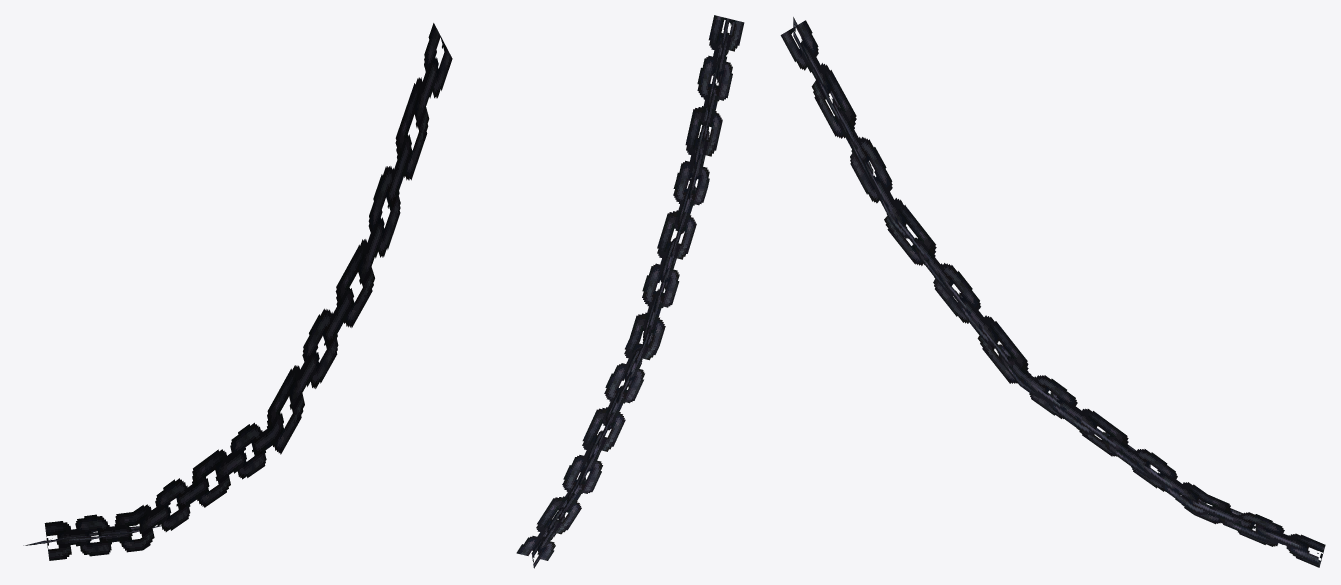
File: 10504_Chain02.FBX
3 views of the same model, side by side, from view 1: azimuth 30°, elevation 25°; view 2: azimuth 150°, elevation 25°; view 3: azimuth 270°, elevation 25° (orthographic). The views are drawn at different scales.
Parts seen in each view (by area): view 1: Object956; view 2: Object956; view 3: Object956.
Part boxes in pixels (<box>): Object956: <box>23,23,452,560</box>; Object956: <box>516,15,744,568</box>; Object956: <box>780,17,1325,567</box>.
Size of the model in its own units: 78.78 by 800 by 721.
